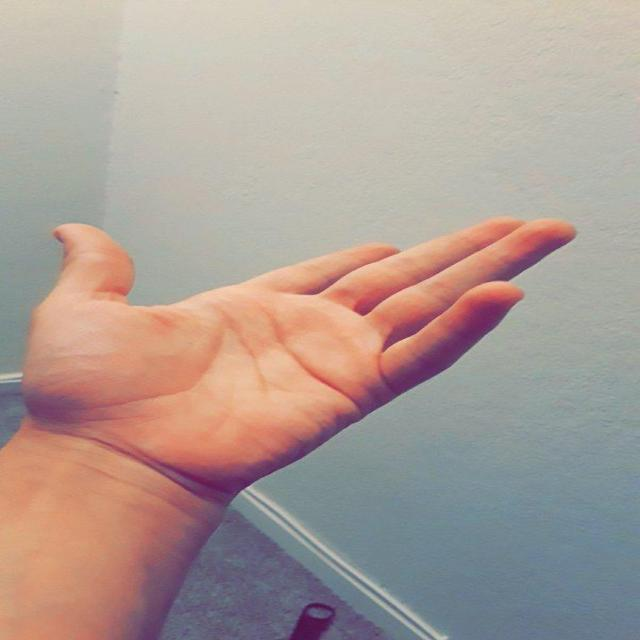hand: (20, 217, 581, 503)
